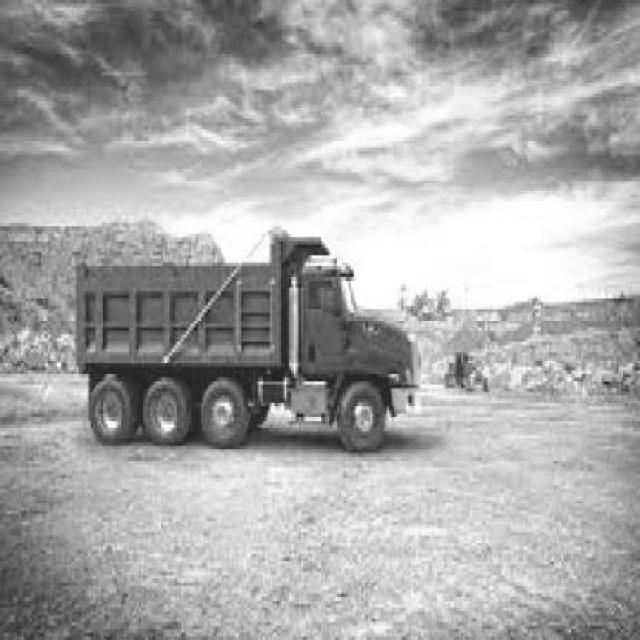Box Truck: (76, 231, 424, 455)
